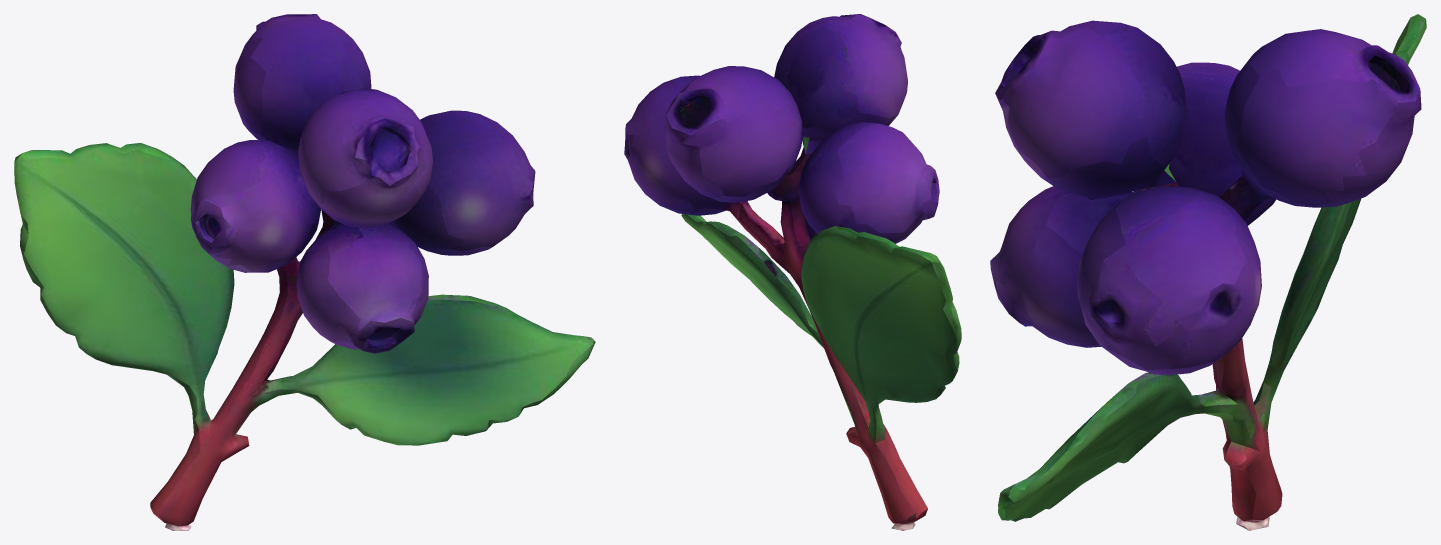
The model's file is berry.glb.
3 views of the same model, side by side, from view 1: azimuth 30°, elevation 25°; view 2: azimuth 150°, elevation 25°; view 3: azimuth 270°, elevation 25° (orthographic). The views are drawn at different scales.
Visible parts, largest first — view 1: item_berry; view 2: item_berry; view 3: item_berry.
Boxes of the visible parts, x1,y1,x2,y2 form: item_berry: (14,14,595,530); item_berry: (624,14,961,530); item_berry: (990,14,1426,530).
Bounding box in the file's own units: 0.9974 × 1 × 0.683.
Materials: 1 (1 with a texture image).
